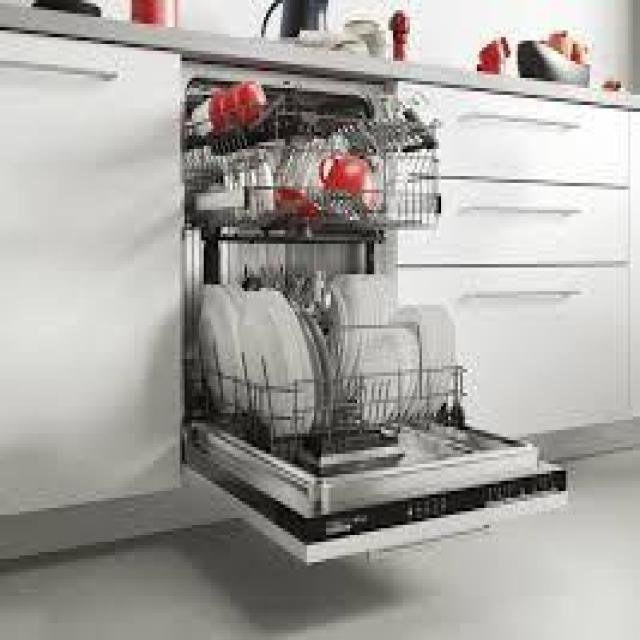dishwasher: (172, 48, 573, 572)
